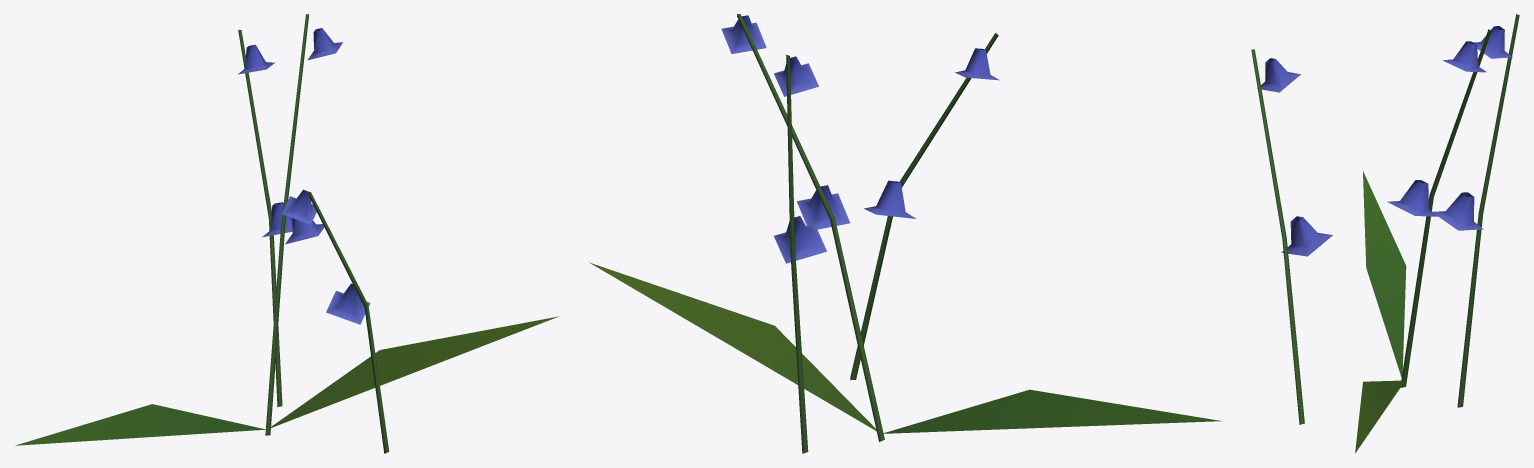
The model's file is flower-bluebell-b.lod2.glb.
The picture shows the model from 3 angles, left to right: view 1: azimuth 30°, elevation 25°; view 2: azimuth 150°, elevation 25°; view 3: azimuth 270°, elevation 25°; orthographic projection. The views are drawn at different scales.
Visible parts, largest first — view 1: flower-bluebell-b.lod2; view 2: flower-bluebell-b.lod2; view 3: flower-bluebell-b.lod2.
Boxes of the visible parts, <box> form: flower-bluebell-b.lod2: <box>15,14,558,453</box>; flower-bluebell-b.lod2: <box>589,14,1221,453</box>; flower-bluebell-b.lod2: <box>1251,14,1519,453</box>.
Bounding box in the file's own units: 0.5189 × 0.3409 × 0.2076.
